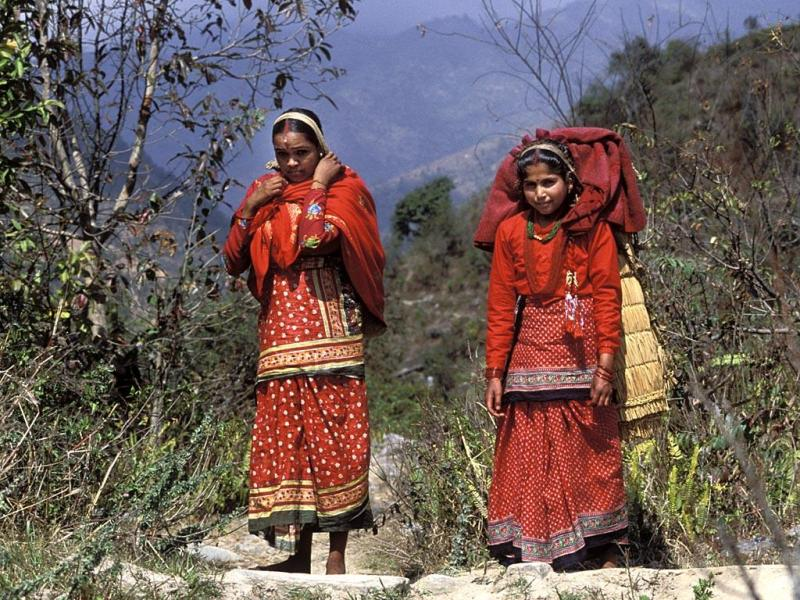human: (463, 119, 676, 572), (220, 103, 397, 572)
